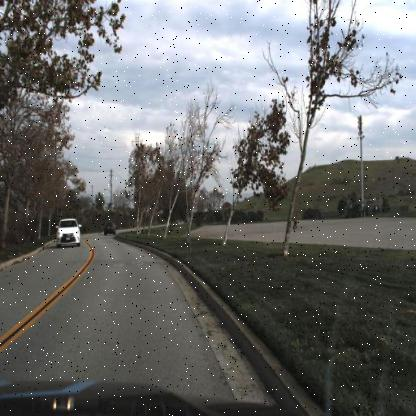car: (54, 218, 82, 248), (102, 218, 119, 237)
